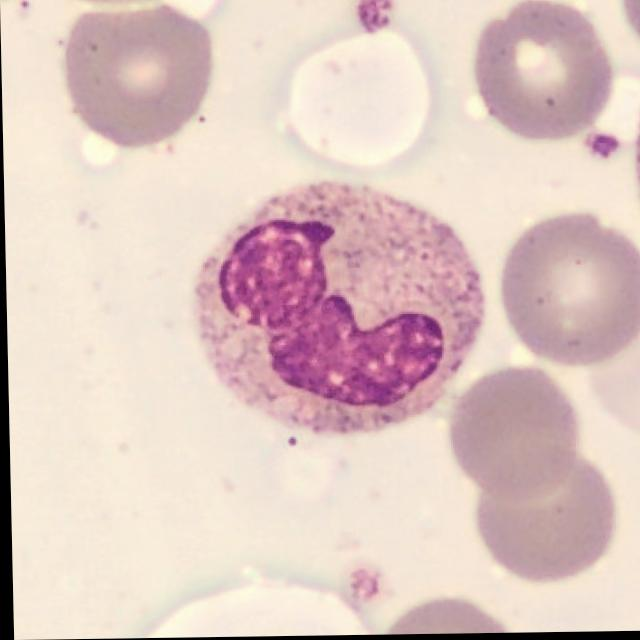Neutrofilo segmentado: (186, 179, 483, 438)
